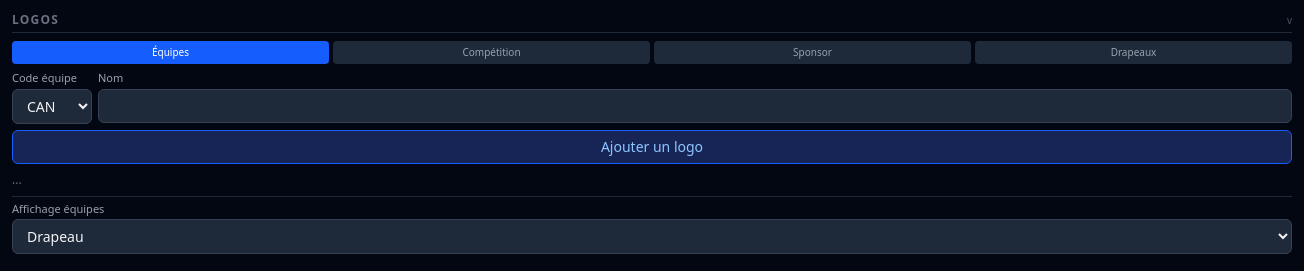
Scenario: LogoSection › change d'onglet au clic sur Sponsor
Click the button "Sponsor".
click(812, 52)  # box [654,41,971,64]
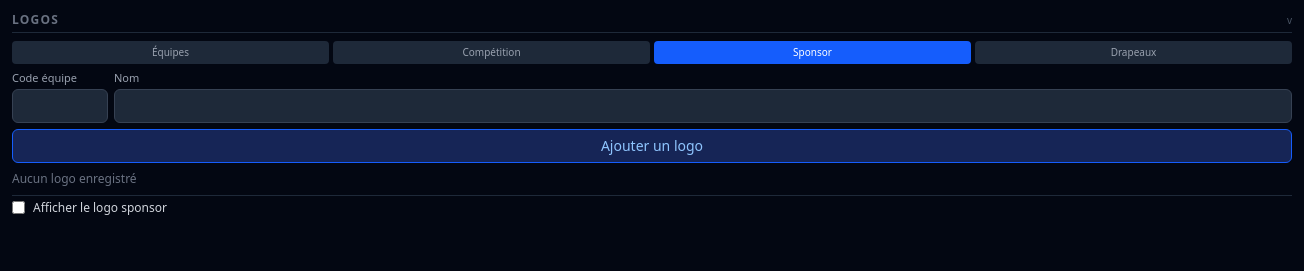
Expected: the text "Afficher le logo sponsor" is shown, [12,198,167,216]
